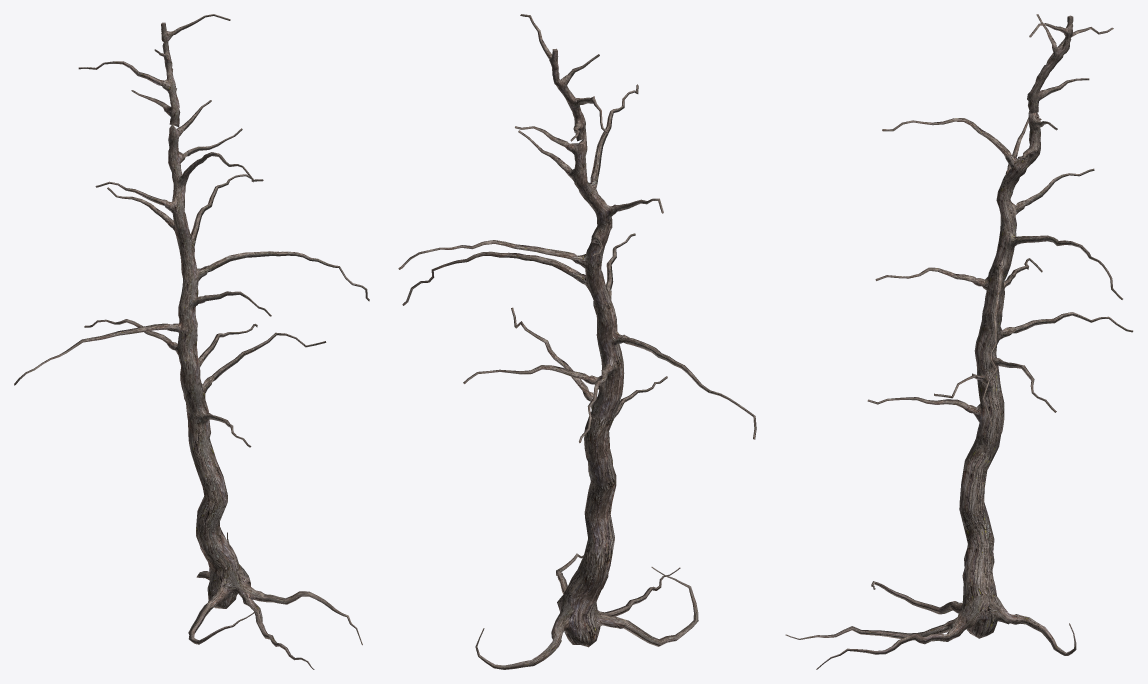
Rendered from DeadTree1.fbx.
3 views of the same model, side by side, from view 1: azimuth 30°, elevation 25°; view 2: azimuth 150°, elevation 25°; view 3: azimuth 270°, elevation 25° (orthographic). The views are drawn at different scales.
Visible parts, largest first — view 1: P3D_DeadTree1; view 2: P3D_DeadTree1; view 3: P3D_DeadTree1.
Boxes of the visible parts, box(x1,y1,x2,y2) form: P3D_DeadTree1: box(14, 14, 369, 669); P3D_DeadTree1: box(398, 14, 756, 669); P3D_DeadTree1: box(785, 14, 1133, 669).
Bounding box in the file's own units: 386 × 634 × 320.
1 material, 1 textured.
